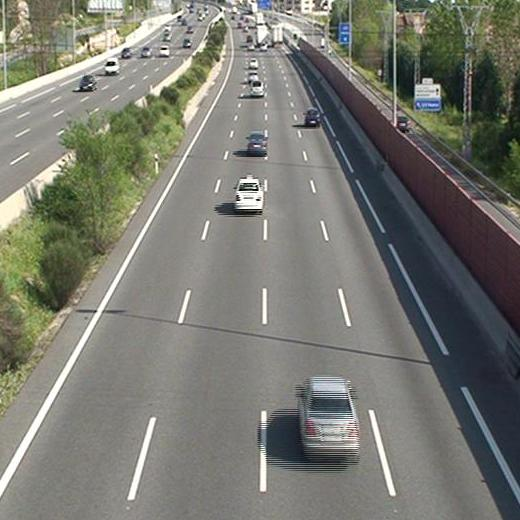car: (298, 379, 358, 457), (233, 179, 263, 209), (246, 133, 268, 155), (305, 108, 321, 126), (250, 80, 262, 96), (247, 71, 258, 81), (248, 57, 257, 67)
